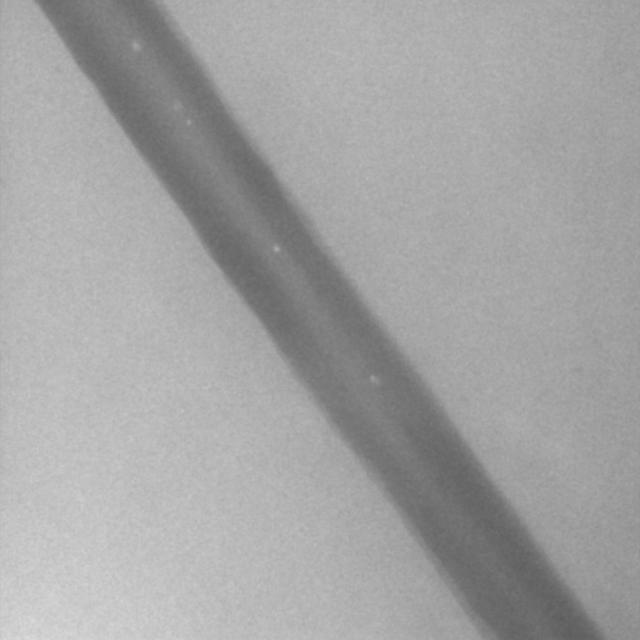air hole: (129, 38, 141, 52), (369, 371, 377, 384), (271, 243, 281, 253)
